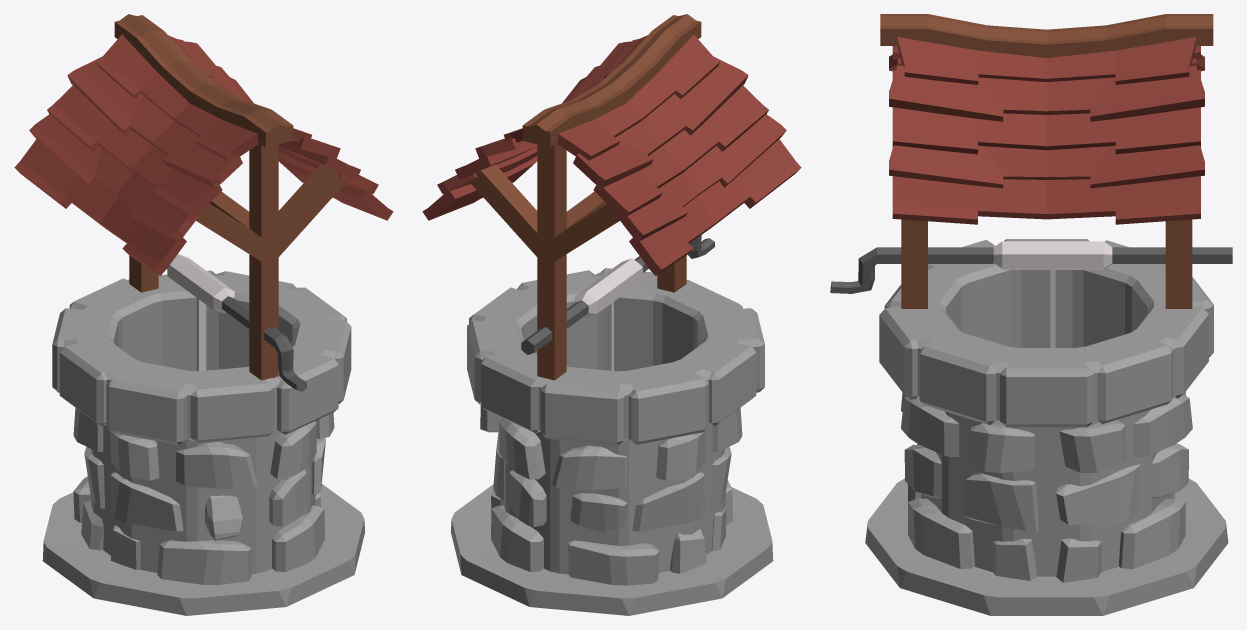
Rendered from well.glb.
3 renders of one model, left to right at view 1: azimuth 30°, elevation 25°; view 2: azimuth 150°, elevation 25°; view 3: azimuth 270°, elevation 25°, orthographic. The views are drawn at different scales.
Parts seen in each view (by area): view 1: Well; view 2: Well; view 3: Well.
Boxes of the visible parts, x1,y1,x2,y2 form: Well: (14, 14, 393, 615); Well: (422, 14, 801, 615); Well: (830, 14, 1232, 615).
Bounding box in the file's own units: 128 × 215 × 149.
